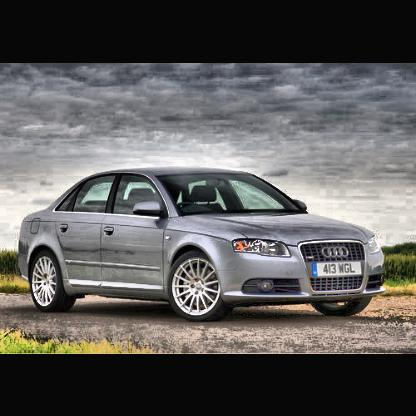Audi S4 Sedan 2007: (17, 165, 387, 318)
